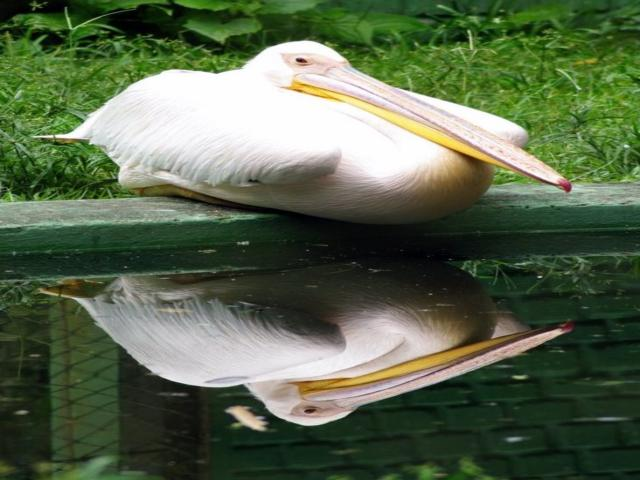Bird: (29, 40, 567, 223)
